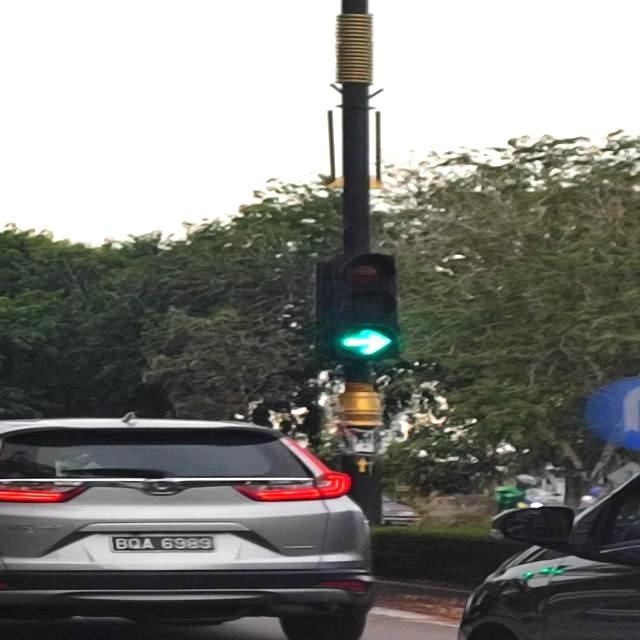Green: (334, 255, 400, 357)
